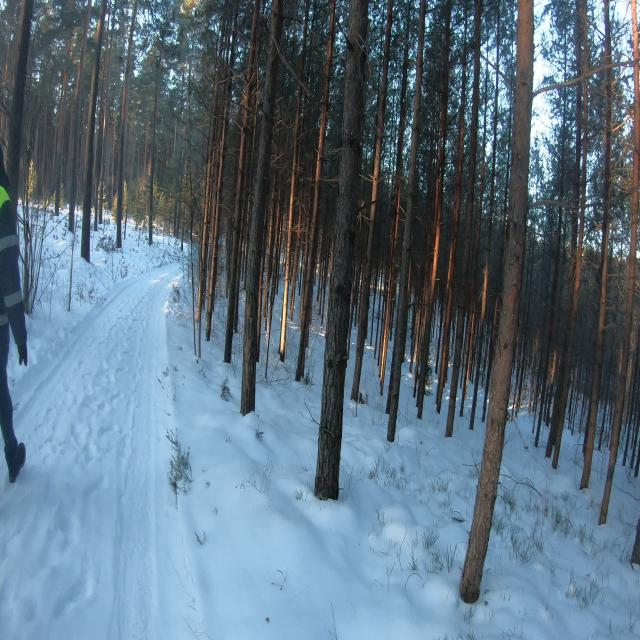bush: (20, 169, 53, 314)
trees: (460, 0, 534, 602), (315, 0, 368, 499), (599, 64, 639, 524), (241, 0, 282, 414), (351, 0, 393, 401), (552, 0, 588, 467), (387, 0, 425, 442), (446, 0, 483, 437), (296, 0, 335, 381), (417, 0, 451, 418), (581, 70, 612, 488), (224, 0, 259, 362), (436, 11, 466, 413), (279, 0, 310, 362), (380, 41, 408, 383), (479, 3, 500, 348), (81, 0, 107, 262), (6, 0, 33, 222), (116, 0, 138, 248), (69, 0, 91, 231), (197, 89, 217, 330), (533, 58, 640, 98), (94, 11, 113, 231), (543, 207, 564, 384), (54, 34, 71, 215), (148, 61, 160, 245), (187, 48, 195, 314), (263, 186, 277, 318), (173, 122, 186, 238), (293, 196, 302, 285), (4, 29, 15, 99), (110, 103, 116, 209), (128, 131, 137, 191), (29, 110, 39, 160), (41, 105, 48, 176), (143, 110, 149, 169), (559, 138, 564, 198), (125, 196, 130, 239), (538, 404, 544, 432), (192, 315, 196, 354), (291, 286, 294, 321), (547, 430, 552, 449), (27, 182, 35, 190), (27, 190, 32, 198)
